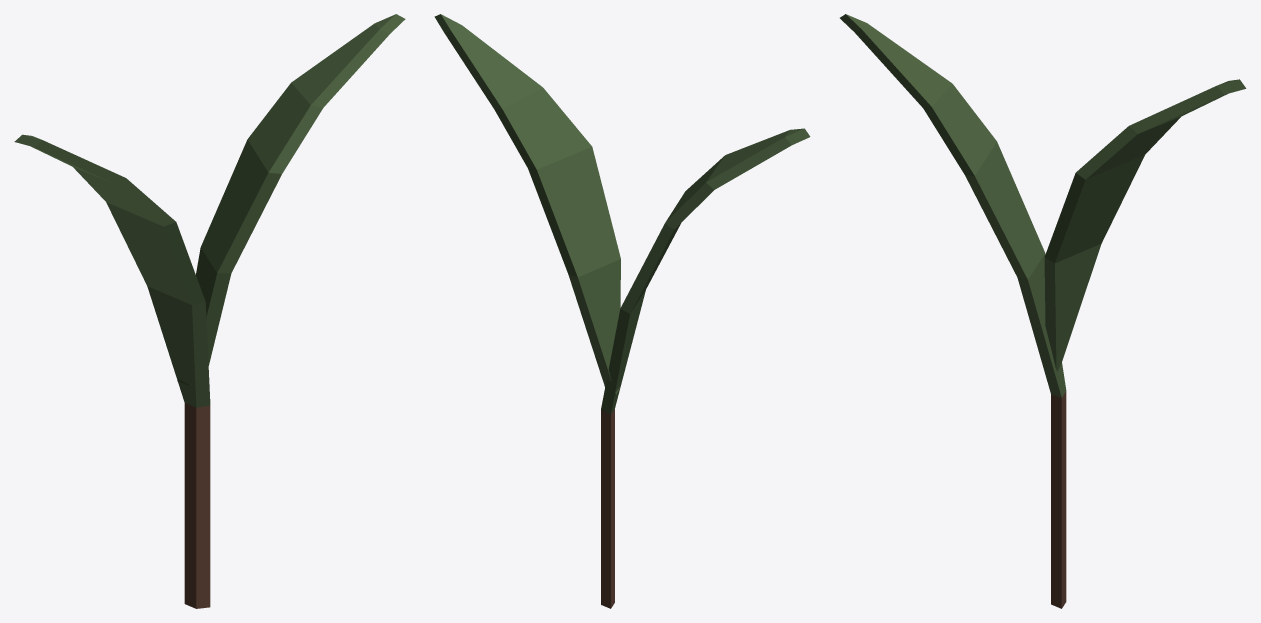
Rendered from BushBerries_1.gltf.
The picture shows the model from 3 angles, left to right: view 1: azimuth 30°, elevation 25°; view 2: azimuth 150°, elevation 25°; view 3: azimuth 330°, elevation 25°; orthographic projection. The views are drawn at different scales.
Visible parts, largest first — view 1: BushBerries_1; view 2: BushBerries_1; view 3: BushBerries_1.
Part boxes in pixels (x1,y1,x2,y2): BushBerries_1: (14,14,405,608); BushBerries_1: (434,14,810,608); BushBerries_1: (840,14,1246,608).
Bounding box in the file's own units: 0.2595 × 0.3529 × 0.0501.
